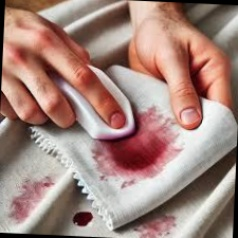wine: (90, 110, 174, 171), (16, 176, 53, 221), (131, 207, 176, 238), (70, 209, 93, 228)
